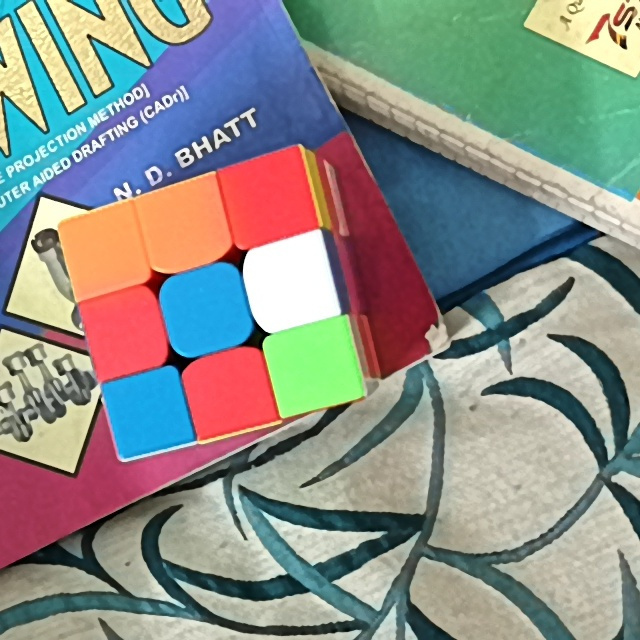tile: (282, 332, 350, 399), (256, 252, 321, 320), (152, 194, 218, 259), (72, 218, 134, 286), (174, 280, 240, 343), (195, 362, 263, 423), (238, 165, 302, 229), (120, 382, 180, 443), (95, 304, 154, 364)
